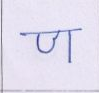aa_matra: (68, 30, 72, 63)
